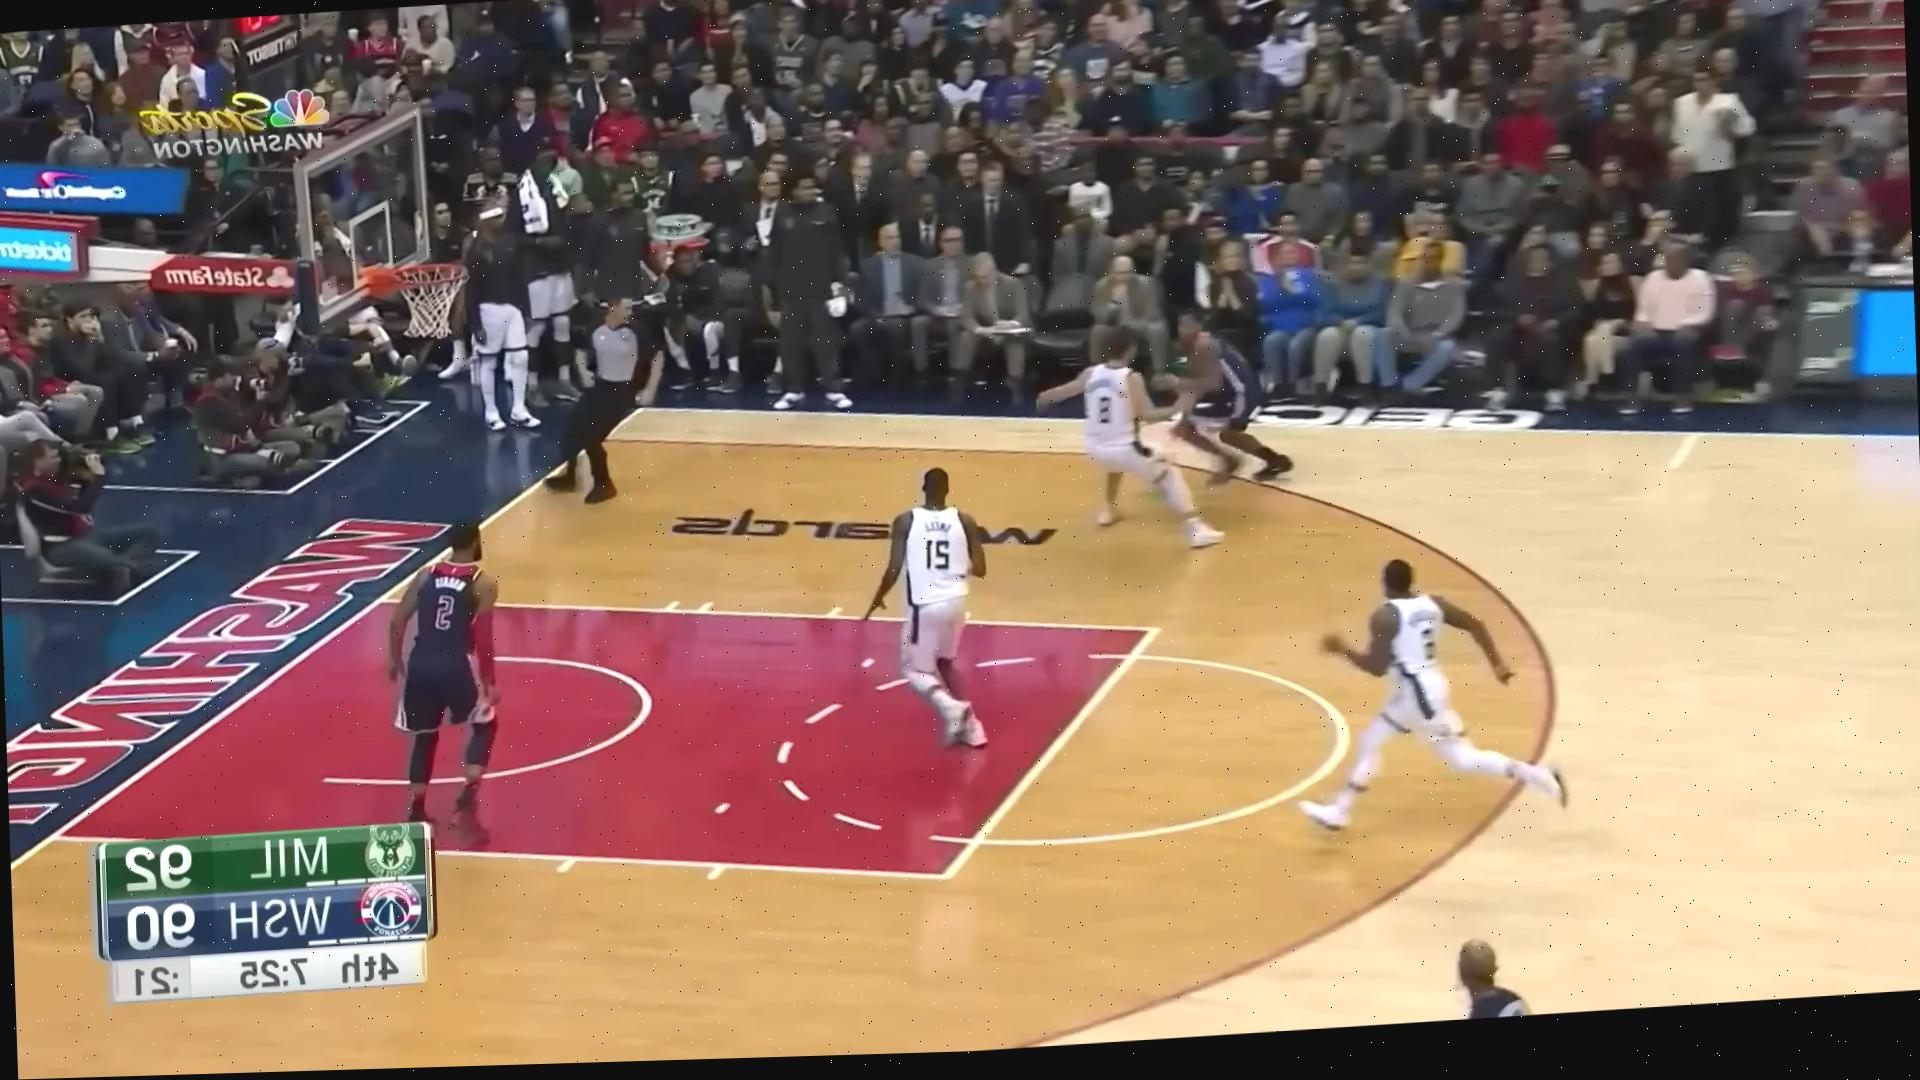no_foul: (1060, 277, 1283, 546)
